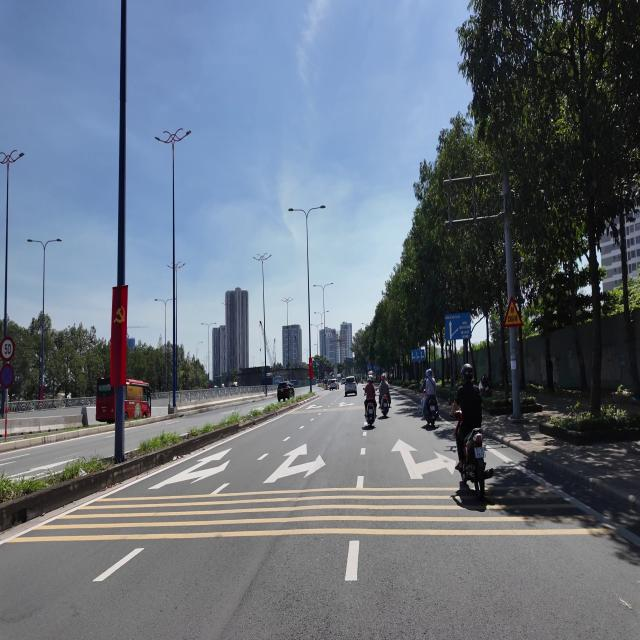car: (277, 382, 294, 401), (344, 376, 357, 396), (329, 379, 338, 390)
motorcycle: (461, 428, 493, 498), (425, 396, 438, 427), (366, 401, 375, 425), (380, 395, 389, 416)
